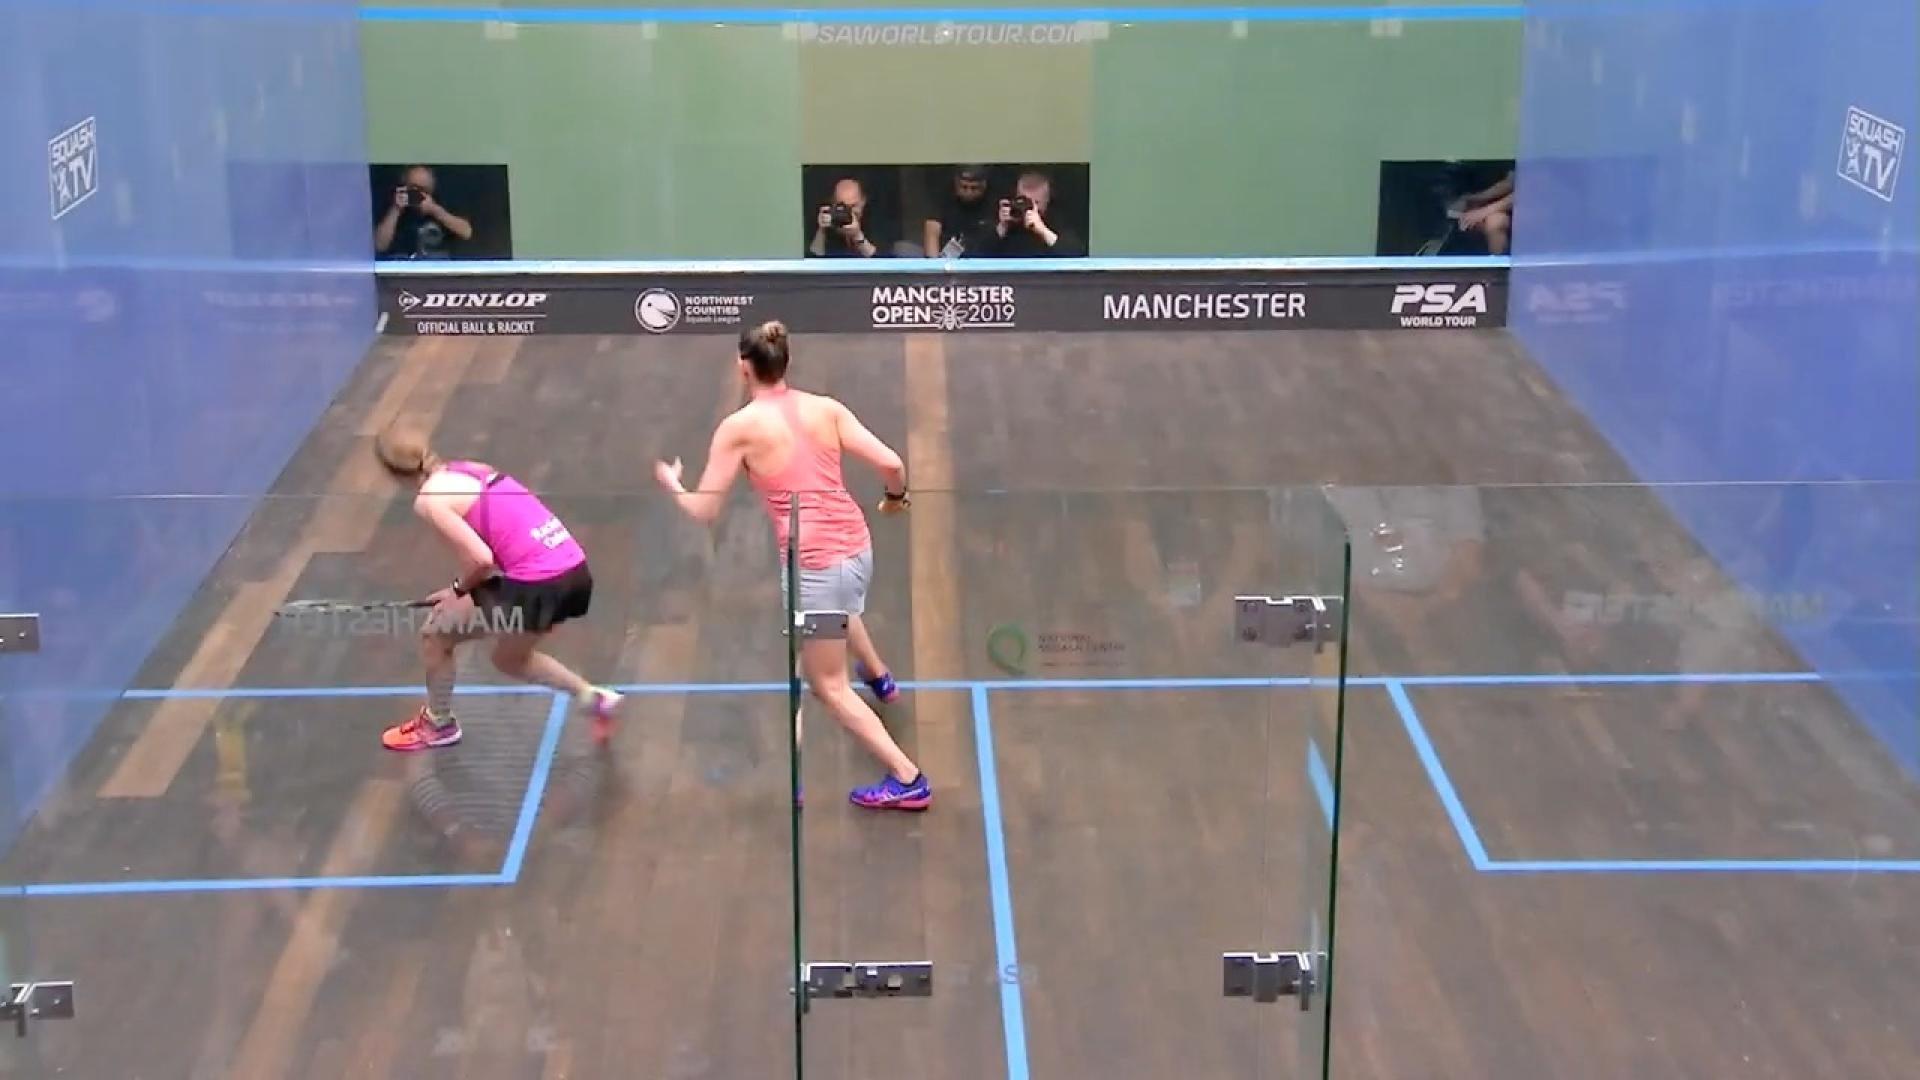Squash-Ball: (357, 293, 407, 355)
